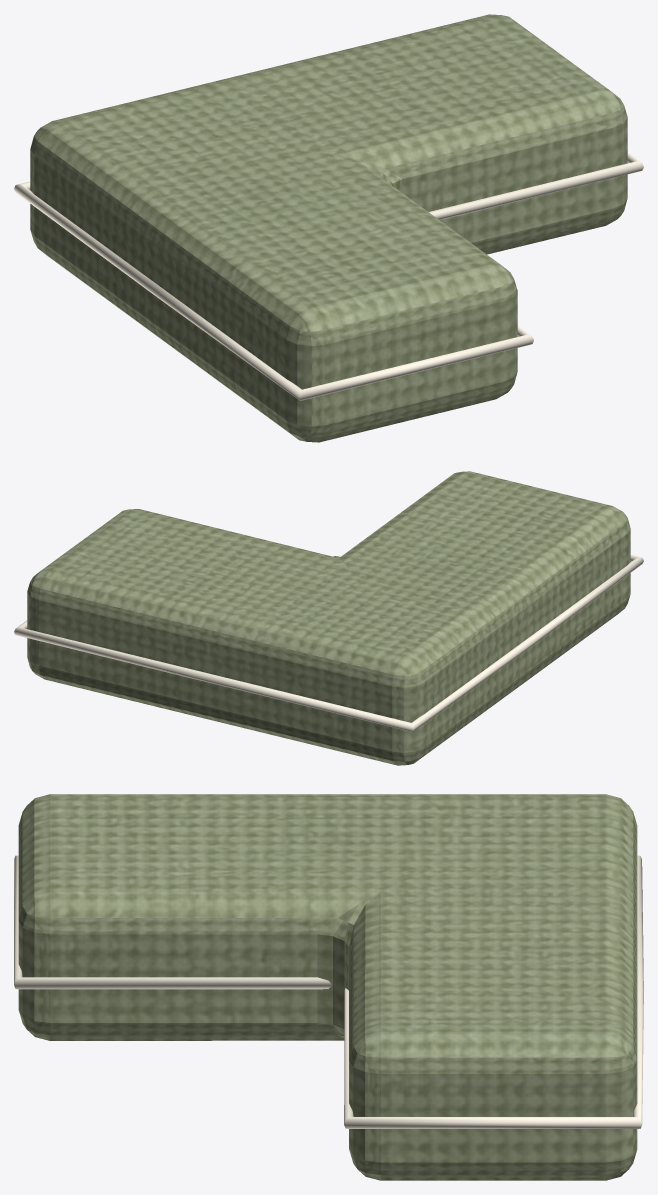
File: cushion_elbow.glb
3 views of the same model, one above another, from view 1: azimuth 30°, elevation 25°; view 2: azimuth 150°, elevation 25°; view 3: azimuth 270°, elevation 25° (orthographic). The views are drawn at different scales.
Parts seen in each view (by area): view 1: cushion_elbow; view 2: cushion_elbow; view 3: cushion_elbow.
Part boxes in pixels (left/top/right/bottom): cushion_elbow: left=14, top=14, right=643, bottom=442; cushion_elbow: left=14, top=471, right=643, bottom=765; cushion_elbow: left=14, top=794, right=643, bottom=1180.
Size of the model in its own units: 0.4764 by 0.122 by 0.4764.
2 materials, 1 textured.
